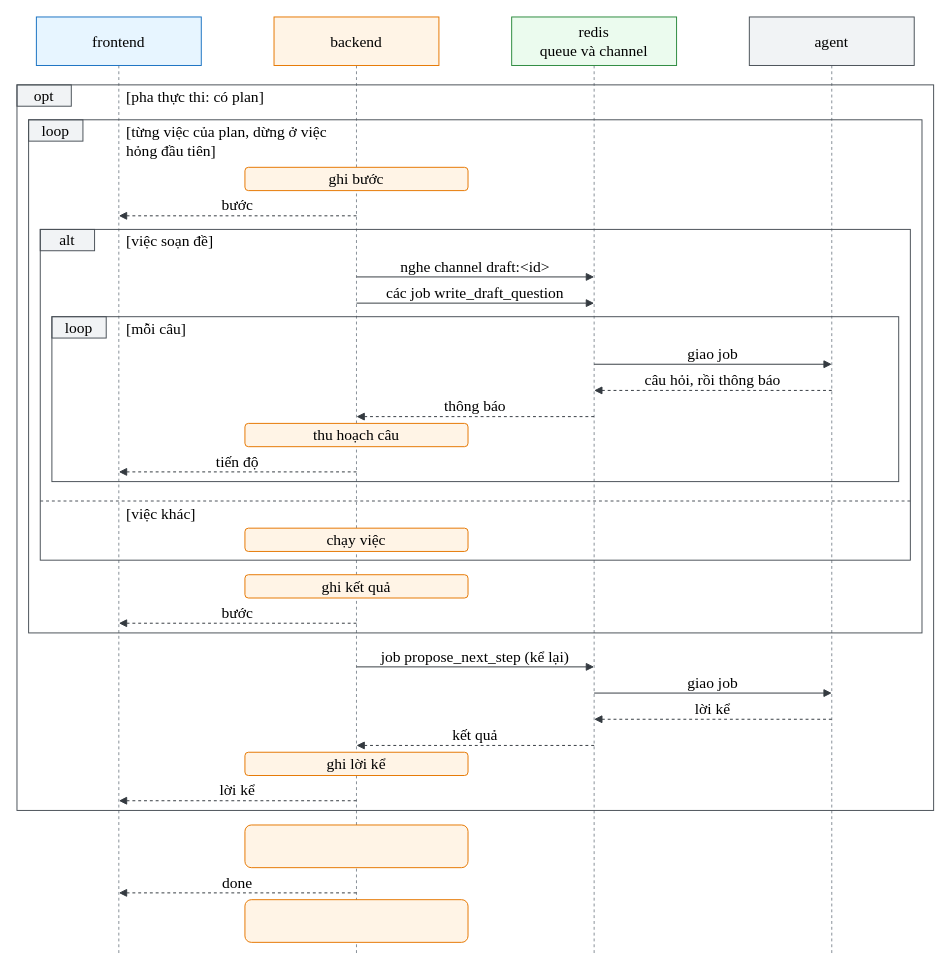
The diagram is 951 pixels wide and 973 high, and some of its shapes have lost their labels. The centre of each missing label's shape, as x and y in pixels:
lượt hội thoại đầu: job name_conversation, ghi tên: the point at 356,846
mở khoá đoạn hội thoại, kể cả khi lỗi: the point at 356,920
